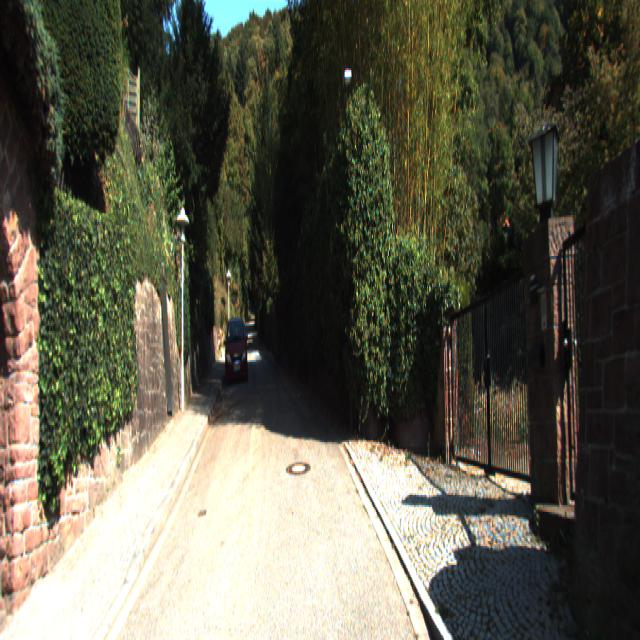Car: (224, 317, 247, 390)
